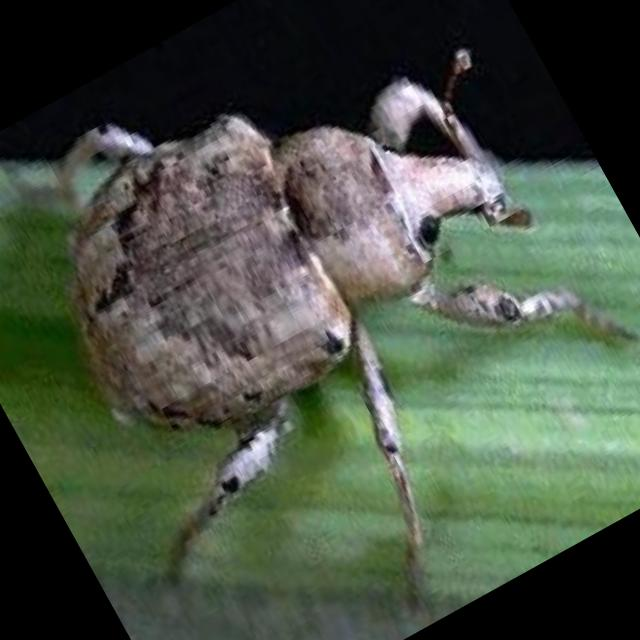rice-bug: (0, 0, 627, 611)
